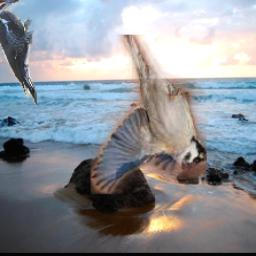Sparrow: (92, 35, 208, 194)
Woodpecker: (0, 0, 37, 107)
